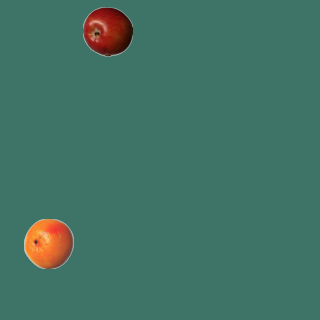Apple Braeburn: (82, 6, 132, 56)
Grapefruit Pink: (23, 218, 73, 268)
